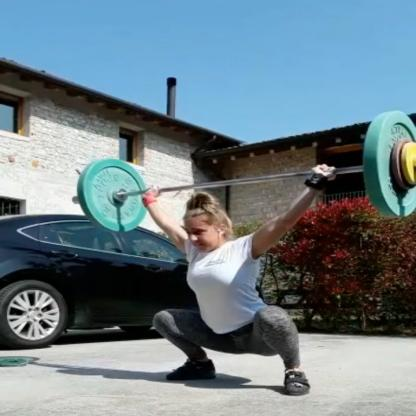barbell: (83, 159, 150, 234), (376, 112, 416, 218)
